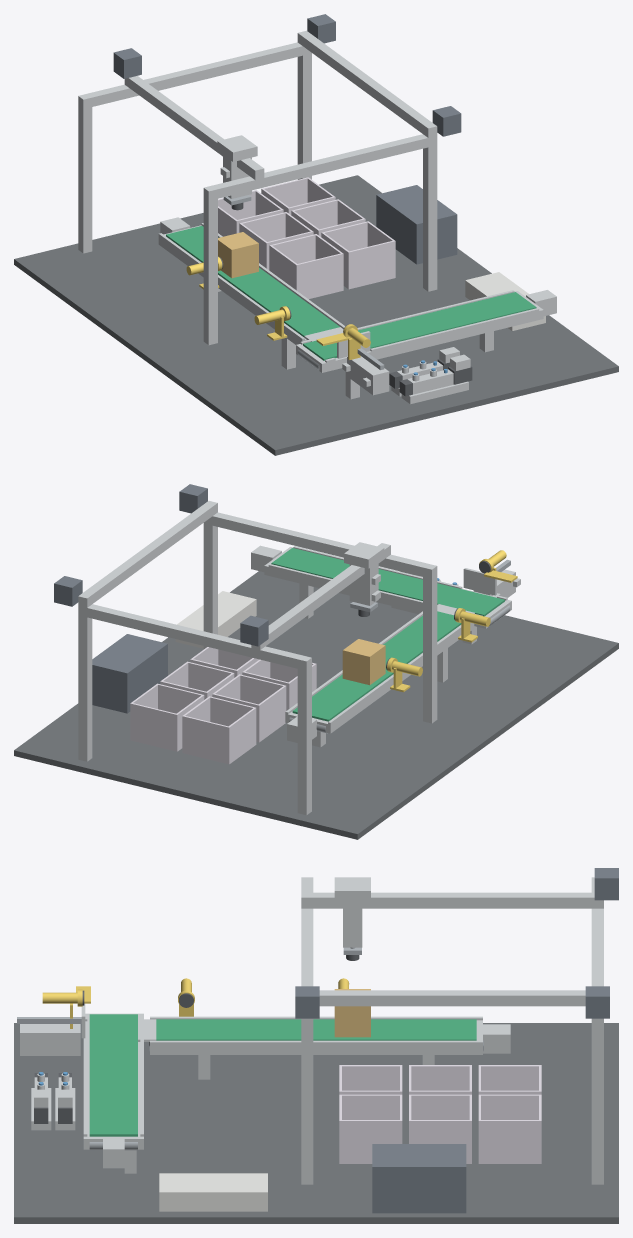
Rendered from production_twin_v5.glb.
The picture shows the model from 3 angles, top to bottom: view 1: azimuth 30°, elevation 25°; view 2: azimuth 150°, elevation 25°; view 3: azimuth 270°, elevation 25°; orthographic projection. The views are drawn at different scales.
Visible parts, largest first — view 1: production_twin_v5 (×9); view 2: production_twin_v5 (×9); view 3: production_twin_v5 (×10).
Boxes of the visible parts, left/top/right/bottom form: production_twin_v5 (×9): left=14, top=14, right=618, bottom=455; production_twin_v5 (×9): left=14, top=484, right=618, bottom=839; production_twin_v5 (×10): left=14, top=868, right=618, bottom=1223.
Bounding box in the file's own units: 0.76 × 0.397 × 1.
